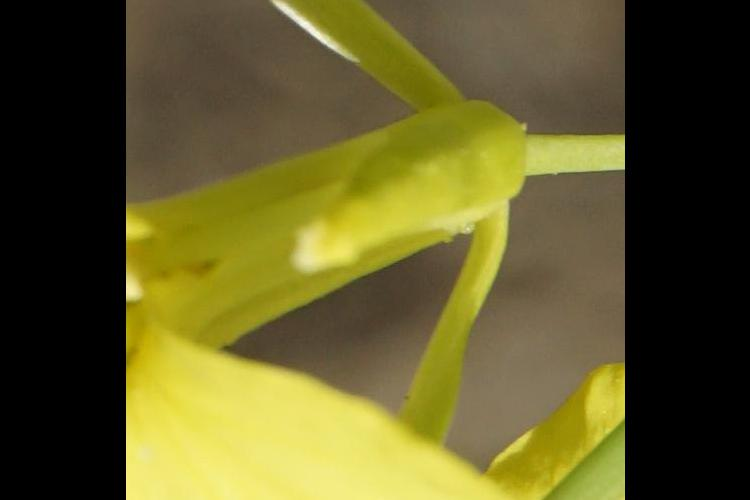yellow: (137, 1, 585, 500)
